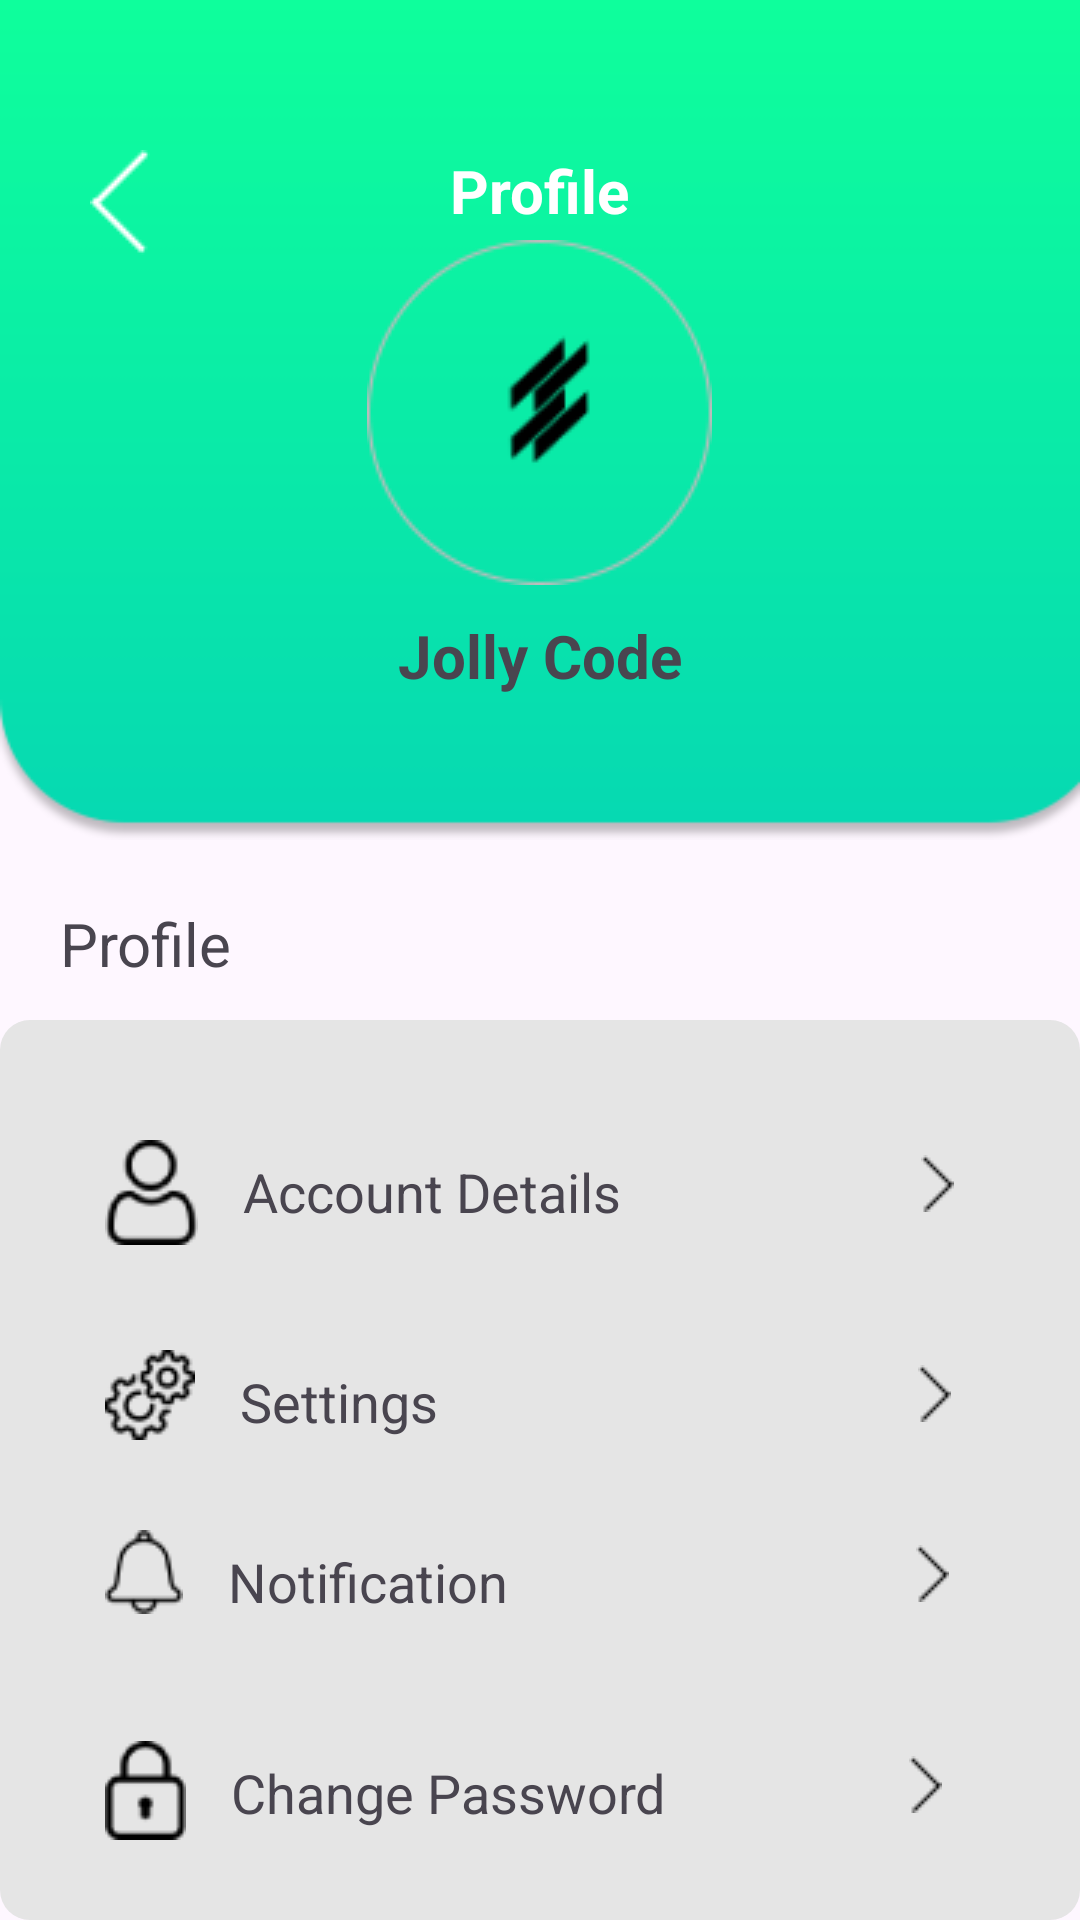

Icon bounding boxes for this 1080 x 1920 phone screenshot, format bbox=[x1, y1, x2, y2]:
back: bbox=[90, 150, 148, 253]
user: bbox=[105, 1140, 198, 1245]
